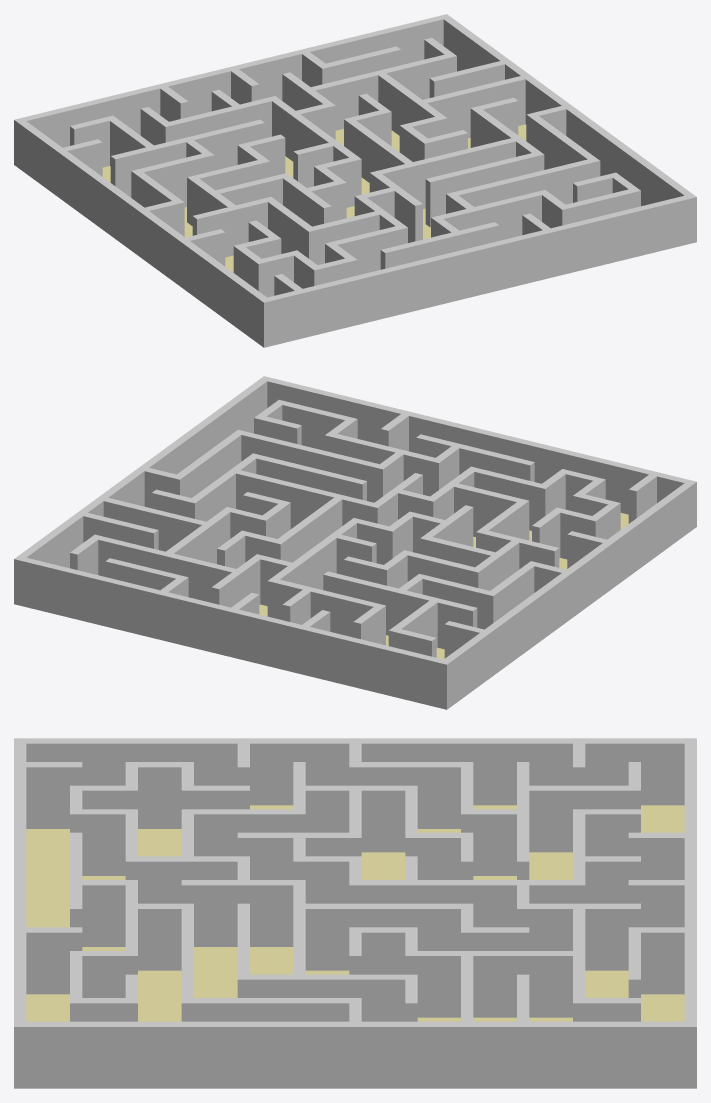
File: Level27Ground.FBX
3 renders of one model, top to bottom at view 1: azimuth 30°, elevation 25°; view 2: azimuth 150°, elevation 25°; view 3: azimuth 270°, elevation 25°, orthographic. The views are drawn at different scales.
Visible parts, largest first — view 1: pPlane2; view 2: pPlane2; view 3: pPlane2.
Part boxes in pixels (<box>): pPlane2: <box>14,14,696,347</box>; pPlane2: <box>14,376,696,709</box>; pPlane2: <box>14,738,696,1088</box>.
Bounding box in the file's own units: 281 × 28 × 281.
